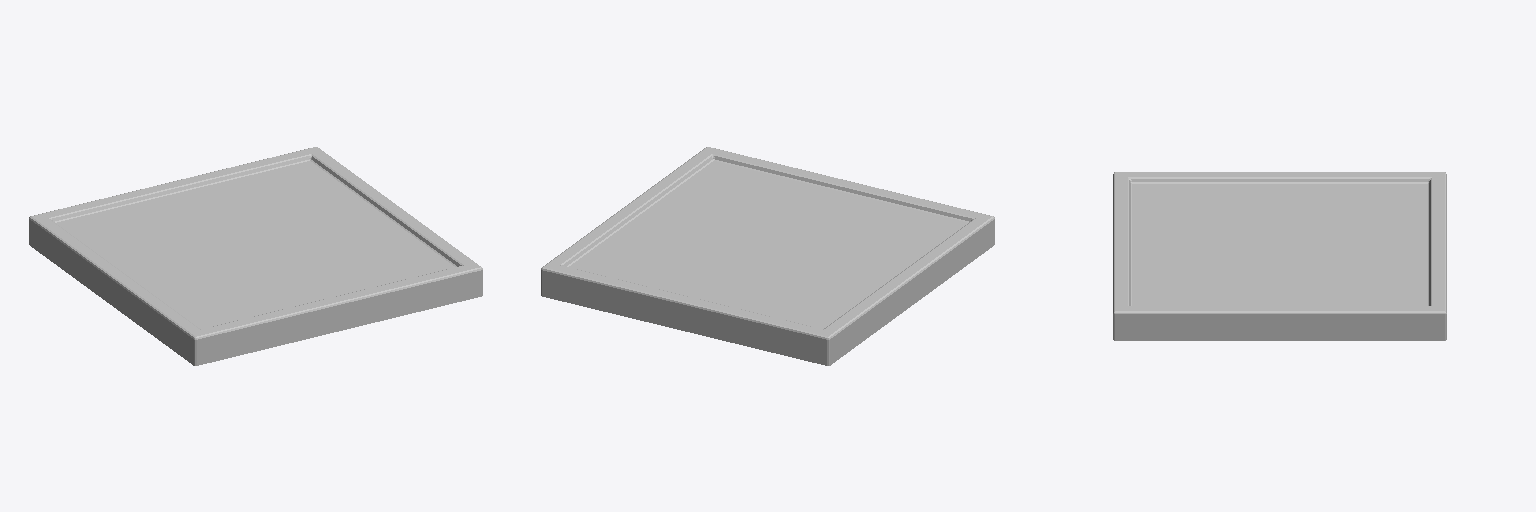
Rendered from chessboard.obj.
3 renders of one model, left to right at view 1: azimuth 30°, elevation 25°; view 2: azimuth 150°, elevation 25°; view 3: azimuth 270°, elevation 25°, orthographic.
Parts seen in each view (by area): view 1: chessboard; view 2: chessboard; view 3: chessboard.
Boxes of the visible parts, box(x1,y1,x2,y2) form: chessboard: box(29, 147, 482, 365); chessboard: box(541, 147, 994, 365); chessboard: box(1113, 172, 1446, 340).
Size of the model in its own units: 2 by 0.1882 by 2.